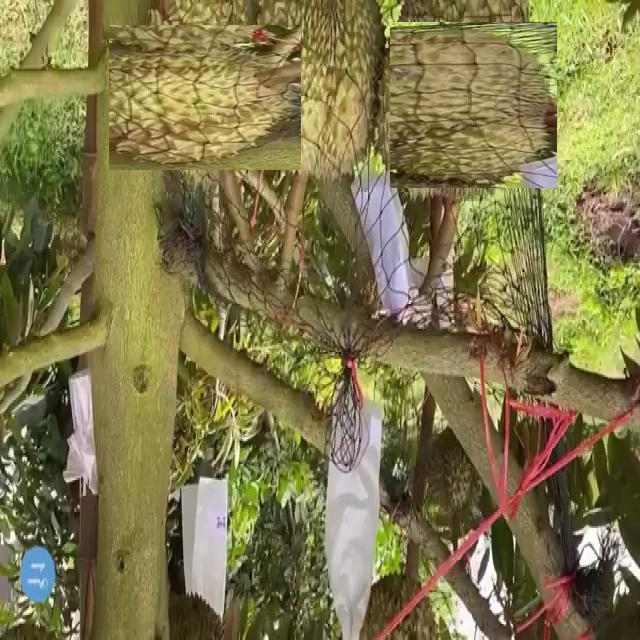durian: (360, 12, 547, 198), (120, 14, 290, 182), (246, 2, 390, 195)
